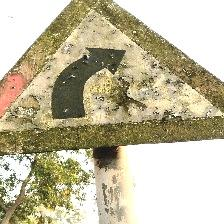Right-turn: (0, 1, 221, 152)
